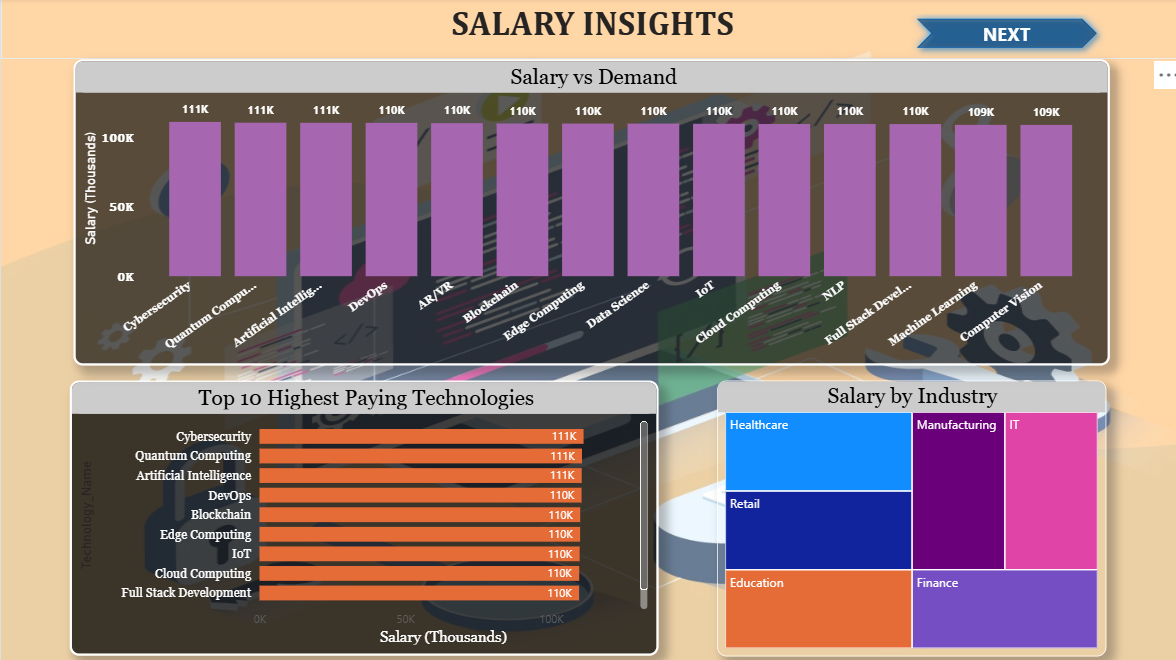

Layout of this report page (visuals, bound fields, positions):
{"tool":"powerbi","page":{"name":"Page 3","canvas":[1280,720],"ordinal":2},"visuals":[{"type":"textbox","box":[0,0,1280.3,66.2],"z":0},{"type":"clusteredBarChart","title":"Top 10 Highest Paying Technologies","fields":{"Category":["TechData.Technology_Name"],"Y":["Avg(TechData.Avg_Salary_USD)"]},"box":[74.4,413.7,636.8,297.4],"z":1000},{"type":"treemap","title":"Salary by Industry","fields":{"Values":["Avg(TechData.Avg_Salary_USD)"],"Group":["TechData.Industry"]},"box":[774.7,413.7,420.4,298.8],"z":2000},{"type":"clusteredColumnChart","title":"Salary vs Demand ","fields":{"Category":["TechData.Technology_Name"],"Y":["Avg(TechData.Avg_Salary_USD)"]},"box":[78.4,66.2,1120.7,331.2],"z":3000},{"type":"shape","box":[981.1,13.7,212.7,49.4],"z":4000}]}

Visuals, with their boxes in screenshot pixels (x1, y1, x2, y2), scaled from the page's 1280x720 canvas onto the 1176x660 screenshot:
textbox: bbox(0, 0, 1175, 61)
"Top 10 Highest Paying Technologies" clusteredBarChart: bbox(68, 379, 653, 652)
"Salary by Industry" treemap: bbox(712, 379, 1098, 653)
"Salary vs Demand " clusteredColumnChart: bbox(72, 61, 1102, 364)
shape: bbox(901, 13, 1097, 58)
